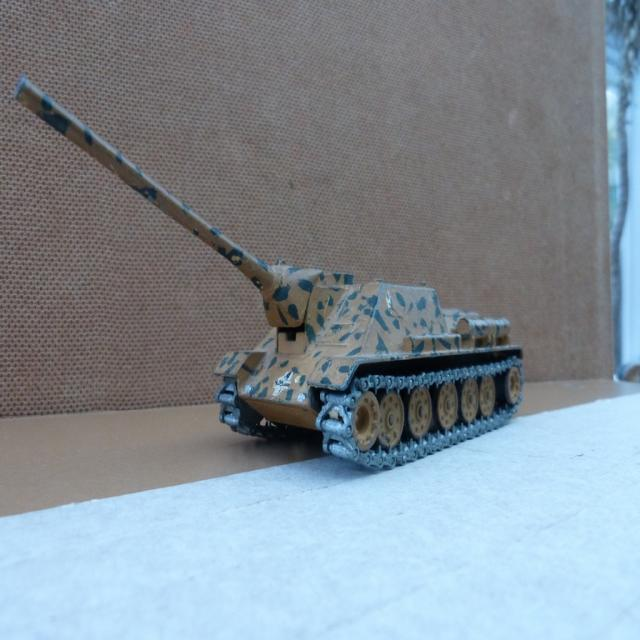tank: (14, 75, 523, 471)
